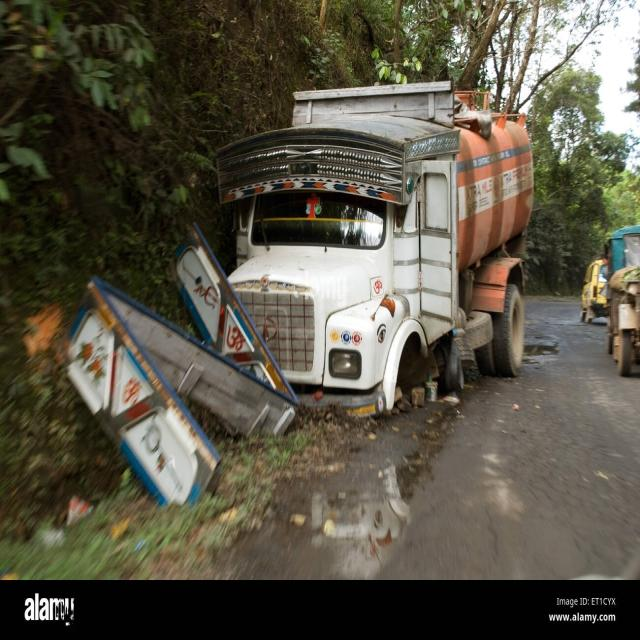truck: (218, 81, 534, 416)
